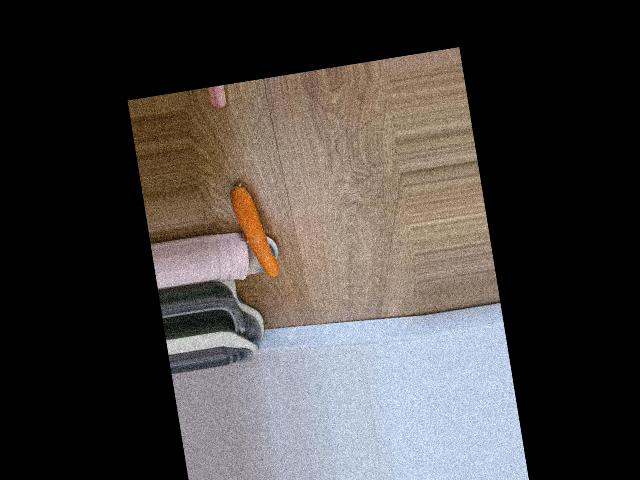carrot: (227, 179, 279, 284)
